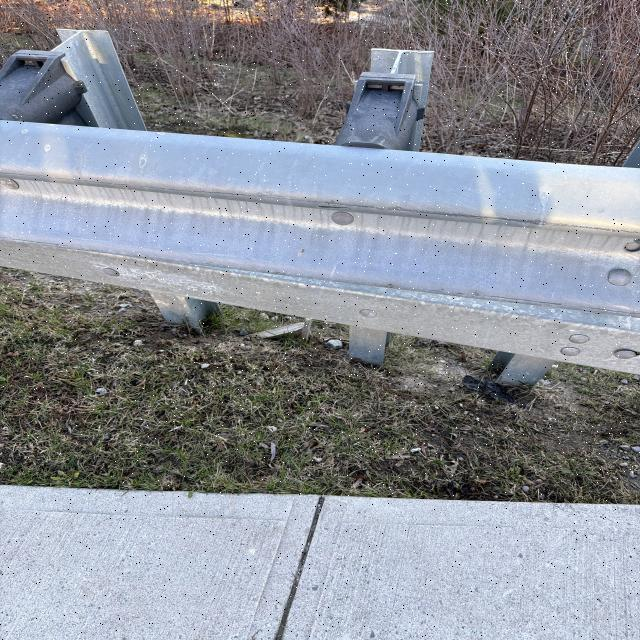Guard rail: (0, 129, 618, 322)
